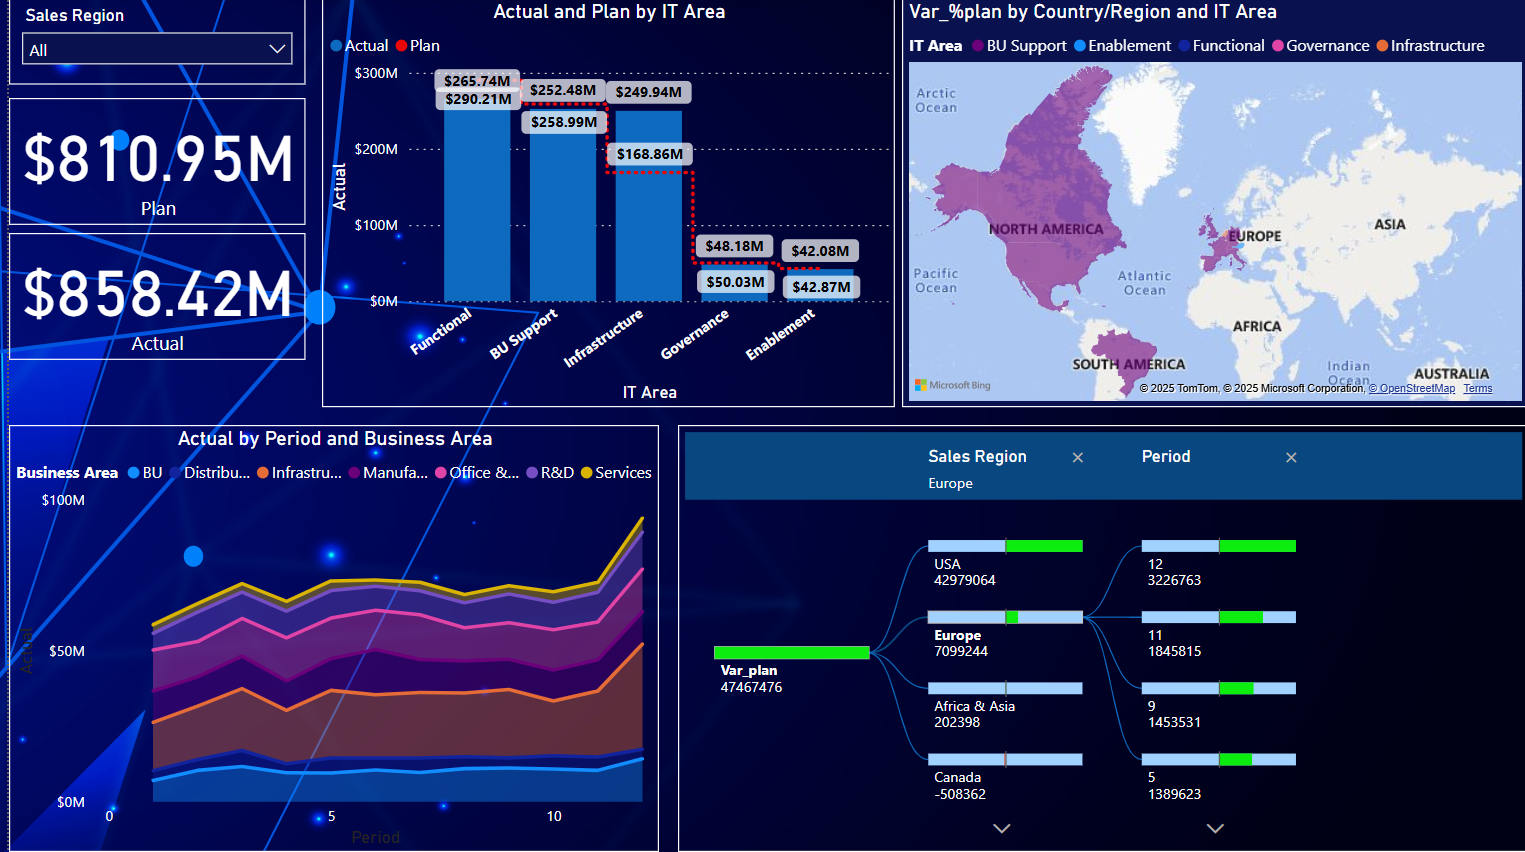

What the dashboard file says about the page in this screenshot:
{"tool":"powerbi","page":{"name":"Overview","canvas":[1280,720],"ordinal":0},"visuals":[{"type":"lineStackedColumnComboChart","fields":{"Y":["IT Area.Actual"],"Category":["IT Area.IT Area"],"Y2":["IT Area.Plan"]},"box":[264.2,0,482.7,344.8],"z":0},{"type":"card","fields":{"Values":["IT Area.Actual"]},"box":[0,197.9,249.9,107.5],"z":1000},{"type":"card","fields":{"Values":["IT Area.Plan"]},"box":[0,84.2,249.9,106.6],"z":2000},{"type":"slicer","fields":{"Values":["Country Region.Sales Region"]},"box":[0,0,249.9,73.4],"z":3000},{"type":"stackedAreaChart","fields":{"Category":["Date.Period"],"Series":["Business Area.Business Area"],"Y":["IT Area.Actual"]},"box":[0,360,548,360],"z":4000},{"type":"filledMap","fields":{"Category":["Country Region.Country/Region"],"Series":["IT Area.IT Area"]},"box":[752.9,0,526.9,344.8],"z":5000},{"type":"decompositionTreeVisual","fields":{"ExplainBy":["Country Region.Sales Region","Date.Period"],"Analyze":["IT Area.Var_plan"]},"box":[564,360,715.8,360],"z":6000}]}

Visuals, with their boxes in screenshot pixels (x1, y1, x2, y2), scaled from the page's 1280x720 canvas onto the 1525x852 screenshot:
lineStackedColumnComboChart - IT Area.Actual x IT Area.IT Area: (315,0,890,408)
card - IT Area.Actual: (0,234,298,361)
card - IT Area.Plan: (0,100,298,226)
slicer - Country Region.Sales Region: (0,0,298,87)
stackedAreaChart - Date.Period x Business Area.Business Area: (0,426,653,851)
filledMap - Country Region.Country/Region x IT Area.IT Area: (897,0,1524,408)
decompositionTreeVisual - Country Region.Sales Region x Date.Period: (672,426,1524,851)
